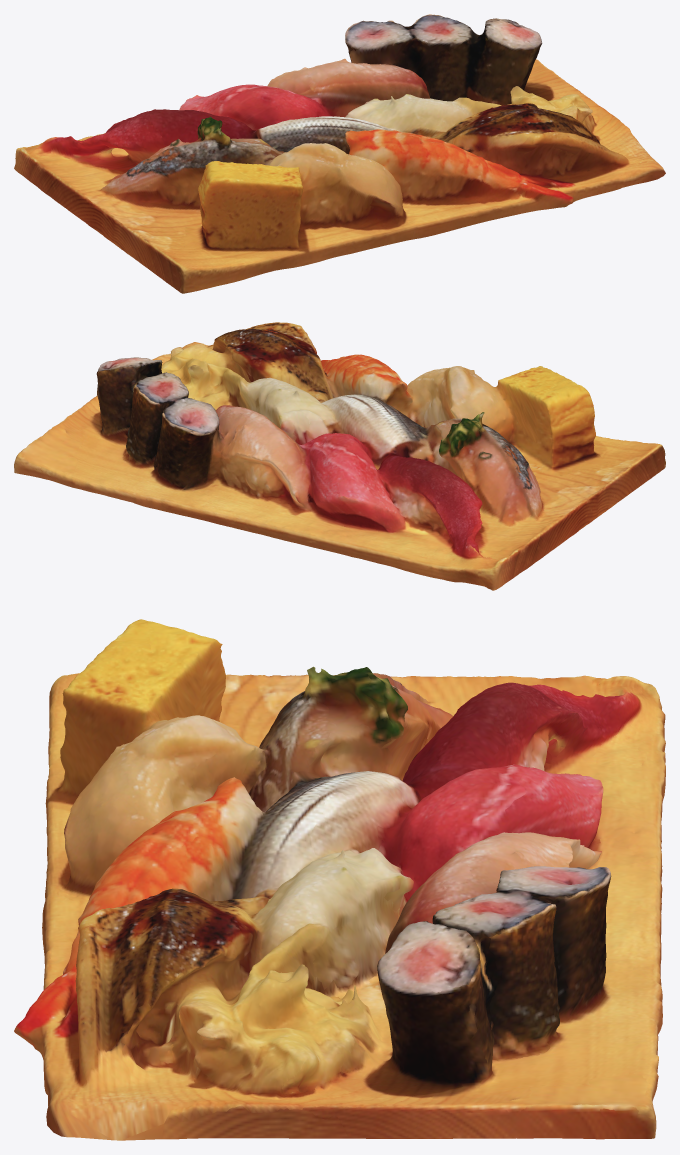
File: sushi01_2.glb
3 views of the same model, one above another, from view 1: azimuth 30°, elevation 25°; view 2: azimuth 150°, elevation 25°; view 3: azimuth 270°, elevation 25° (orthographic). The views are drawn at different scales.
Parts seen in each view (by area): view 1: Object_2, Object_3; view 2: Object_2, Object_3; view 3: Object_2, Object_3.
Part boxes in pixels (x1=…): Object_2: x1=14, y1=15, x2=665, y2=293; Object_3: x1=18, y1=14, x2=657, y2=291; Object_2: x1=14, y1=323, x2=665, y2=589; Object_3: x1=14, y1=322, x2=664, y2=590; Object_2: x1=14, y1=619, x2=662, y2=1140; Object_3: x1=18, y1=619, x2=665, y2=1140.
Size of the model in its own units: 0.244 by 0.0403 by 0.1585.
Materials: 1 (1 with a texture image).
